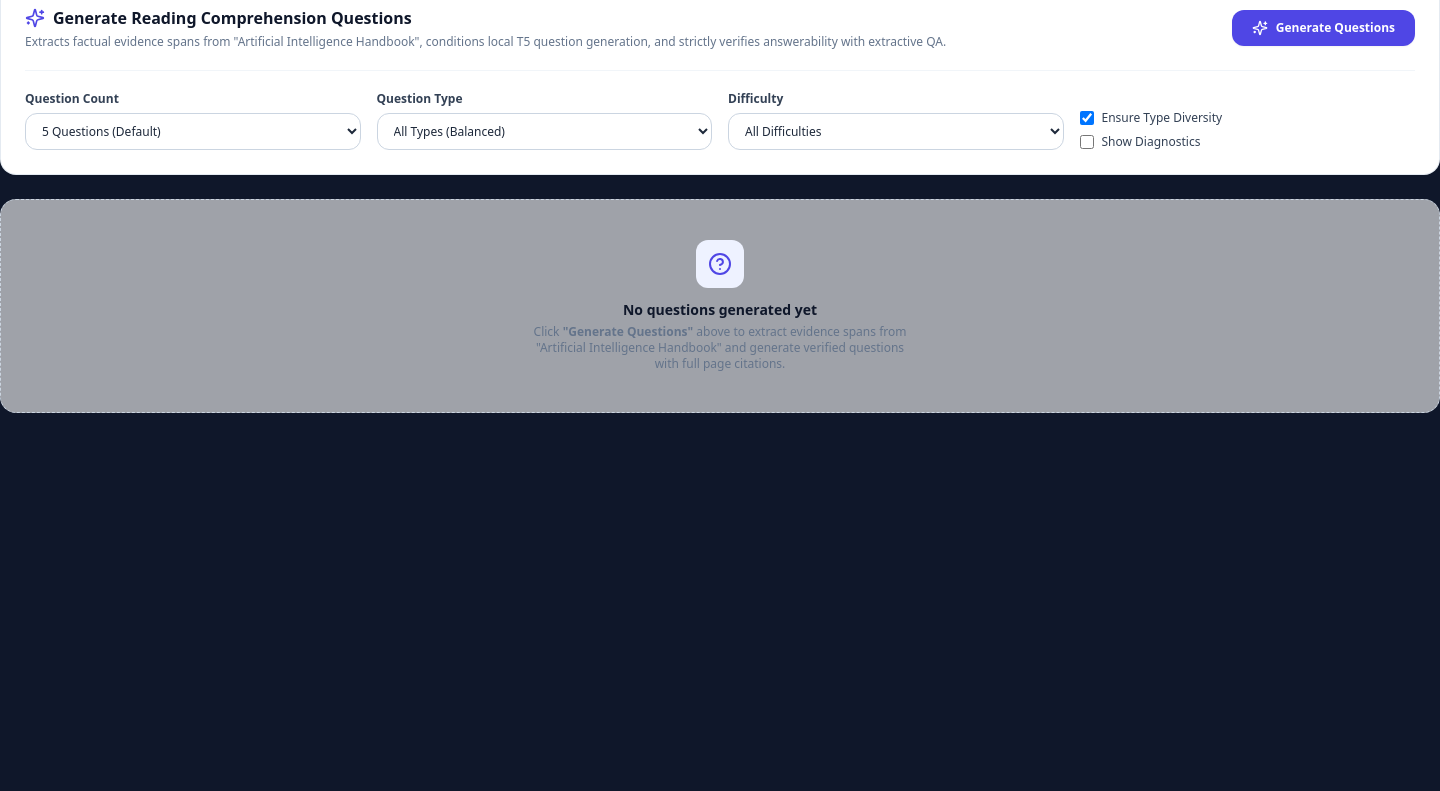
Test case: QuestionGenerator Frontend Component Tests › 4. Renders diagnostic rejections when show diagnostics is enabled
This screenshot has width=1440, height=791.
Click the checkbox labelled "Show Diagnostics" at (1086, 142), box x1=1080 y1=135 x2=1094 y2=149
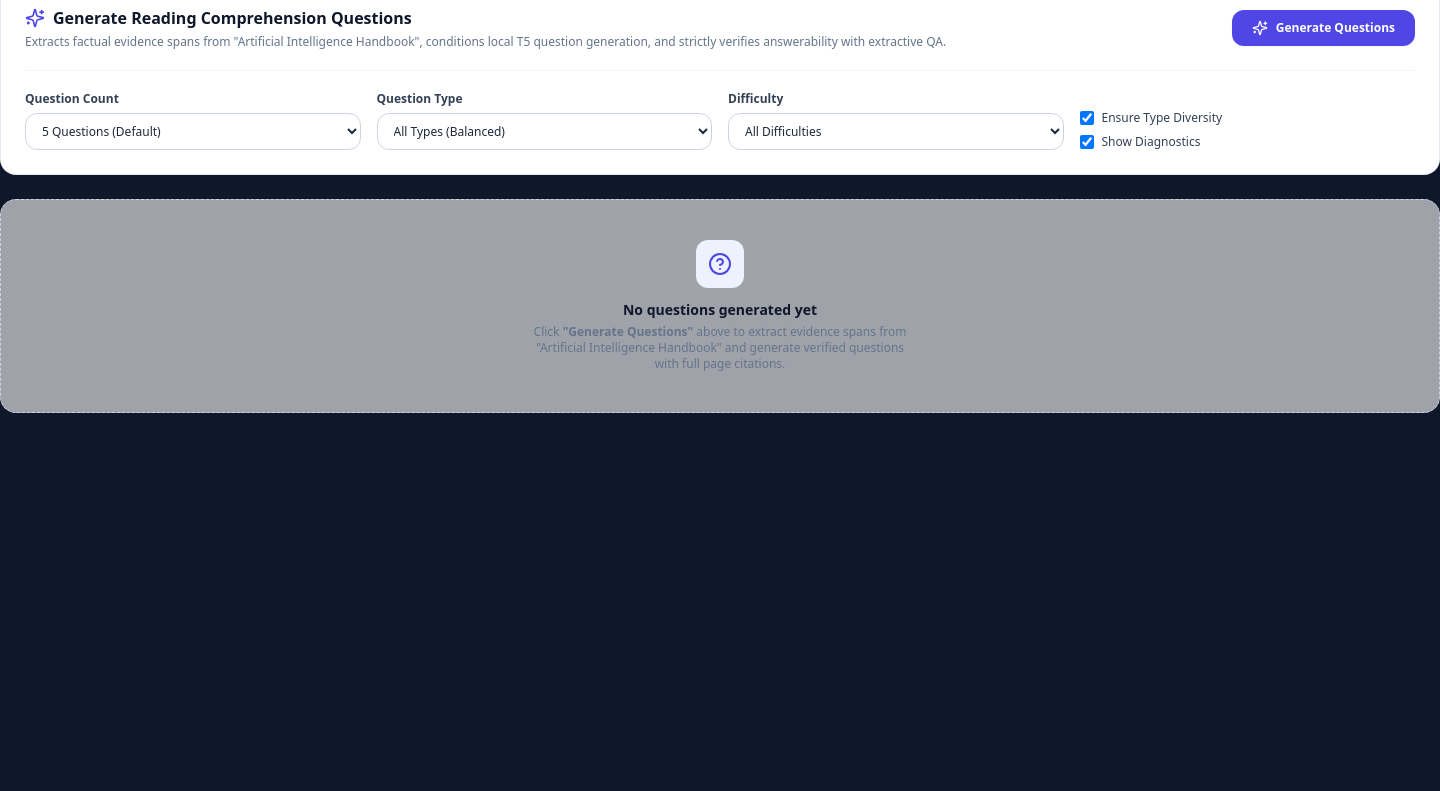
Click the button "Generate Questions" at (1323, 28), box x1=1232 y1=10 x2=1415 y2=46
(page scrolled)
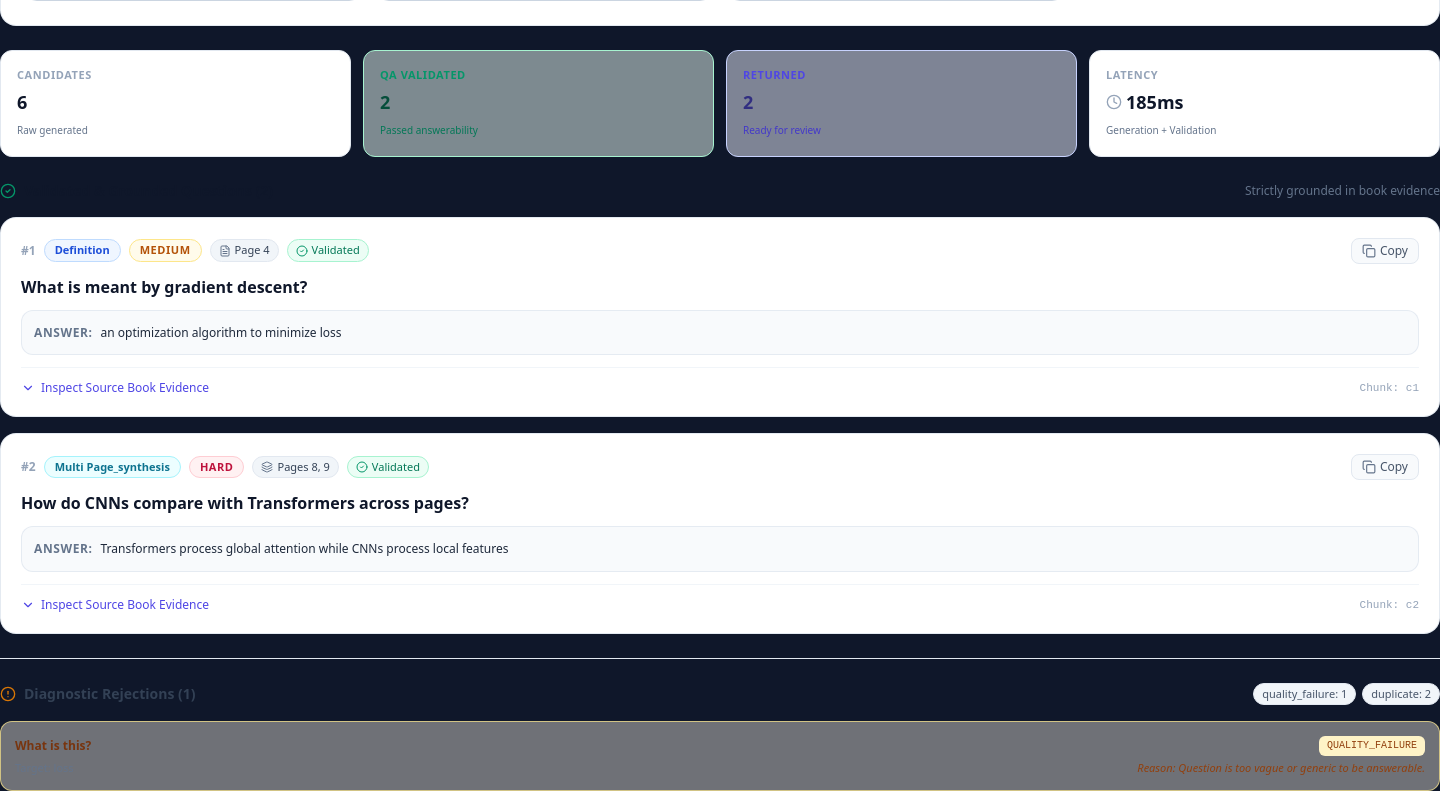
Result: the heading "Diagnostic Rejections (1)" is shown at x1=0 y1=684 x2=196 y2=704
Result: the text "What is this?" is shown at x1=15 y1=738 x2=91 y2=754
Result: the text "Reason: Question is too vague or generic to be answerable." is shown at x1=1137 y1=760 x2=1425 y2=776
